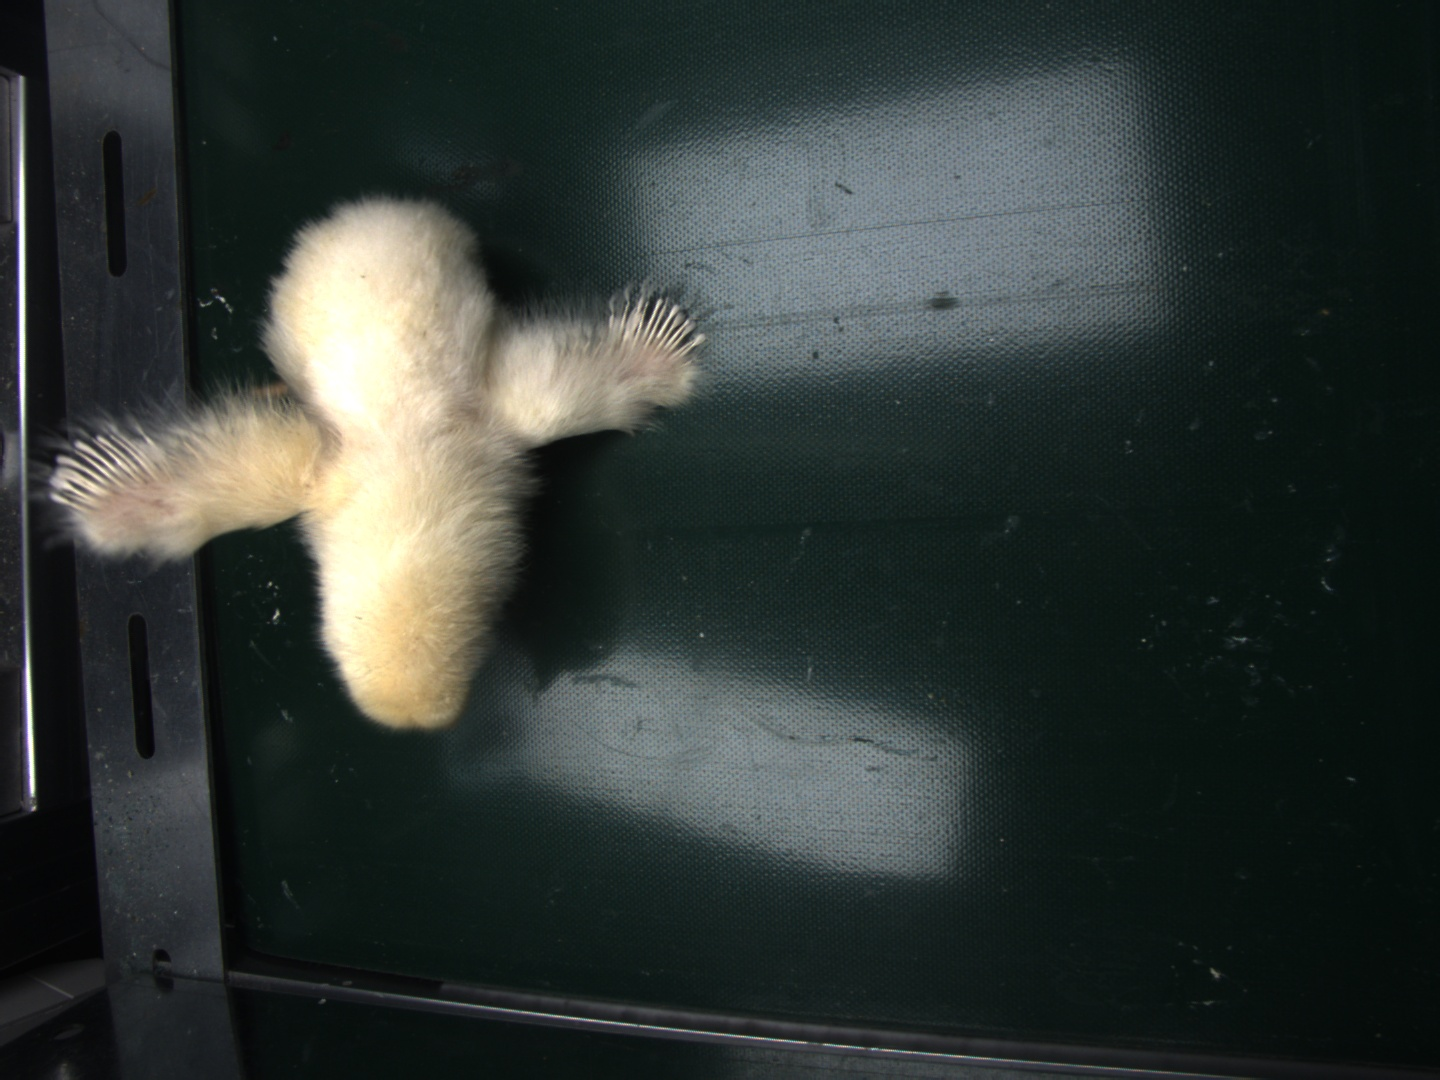male: (51, 429, 158, 511), (615, 293, 703, 357)
